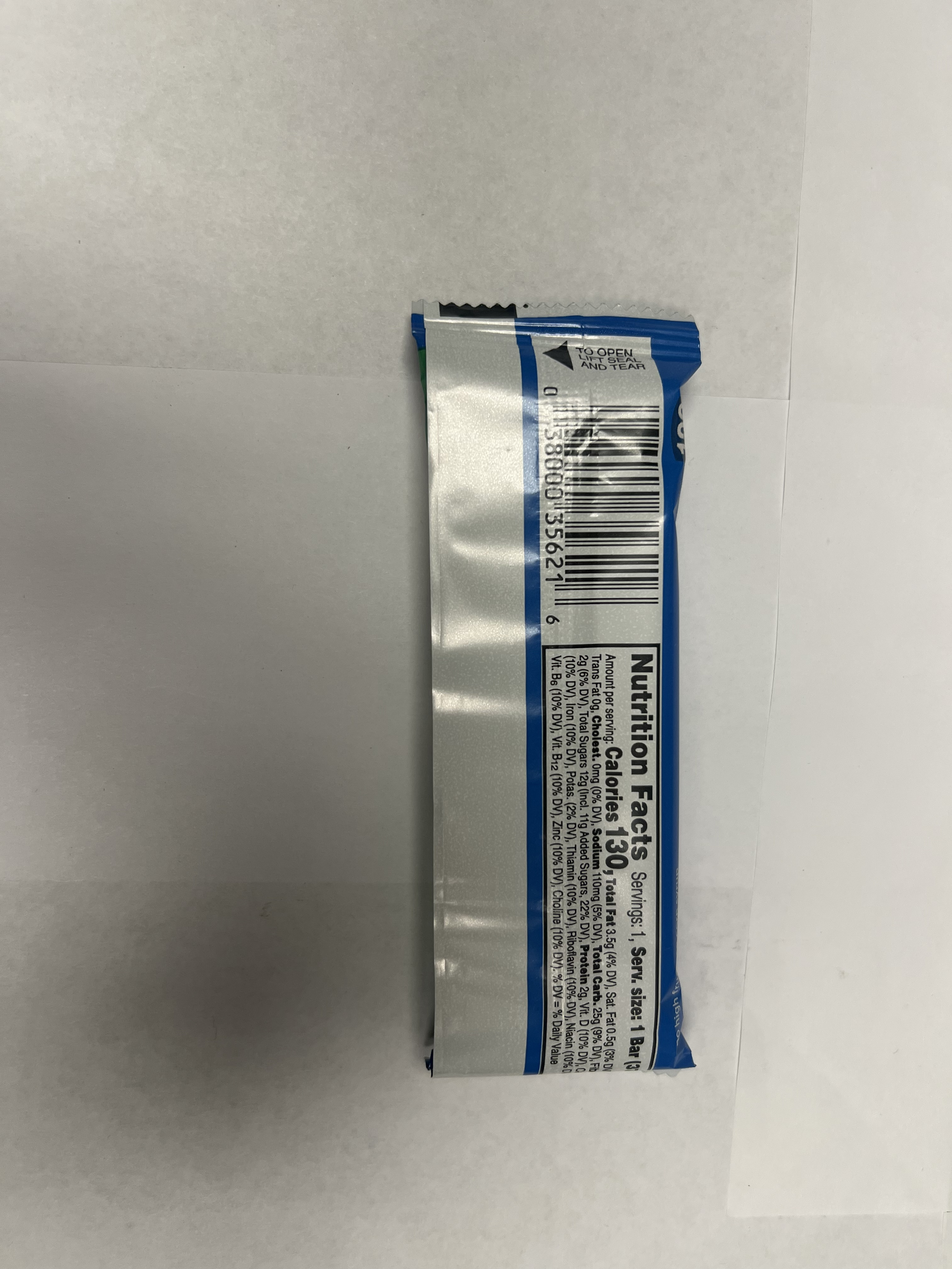packaged: (402, 292, 698, 1085)
